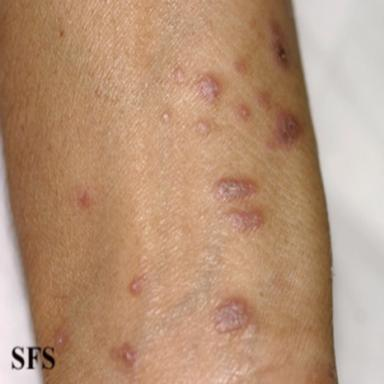lichen: (215, 299, 249, 333), (275, 109, 301, 146), (270, 20, 290, 68), (216, 178, 256, 201), (227, 210, 264, 232), (197, 75, 221, 100), (122, 344, 136, 366), (257, 90, 271, 111), (241, 322, 258, 339), (235, 104, 251, 121), (233, 59, 247, 75), (196, 121, 209, 135), (130, 280, 142, 294), (174, 69, 185, 83), (265, 139, 276, 151), (161, 112, 170, 123)
